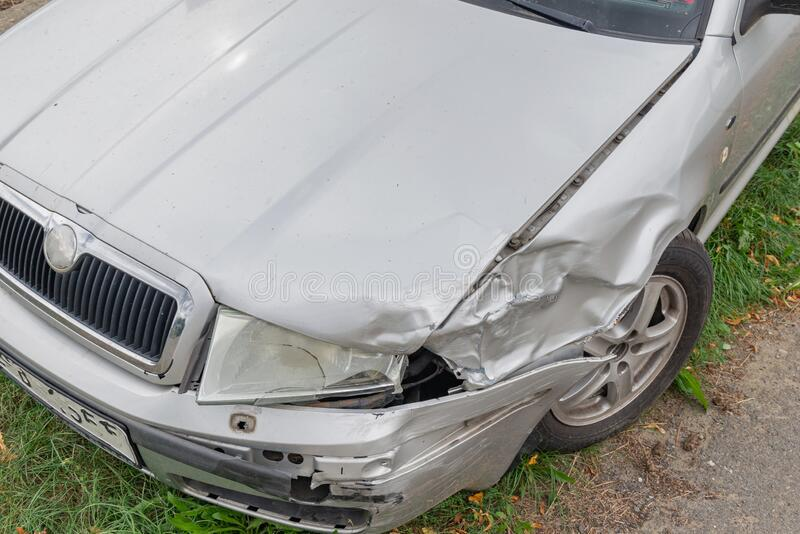Headlight-Damage: (196, 290, 418, 416)
fender-dent: (440, 197, 729, 439)
front-bumper-dent: (49, 363, 615, 525)
